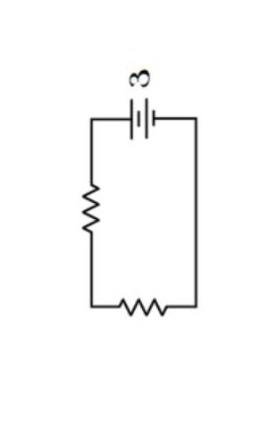resistor: (95, 287, 190, 324), (68, 162, 107, 243)
